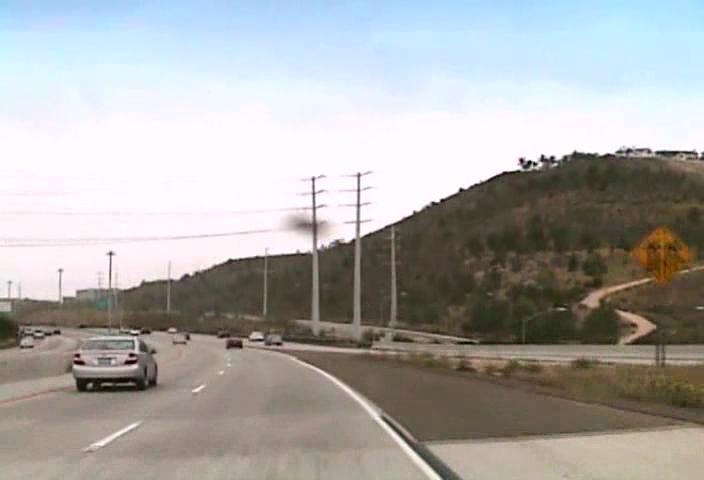addedLane: (628, 224, 695, 285)
